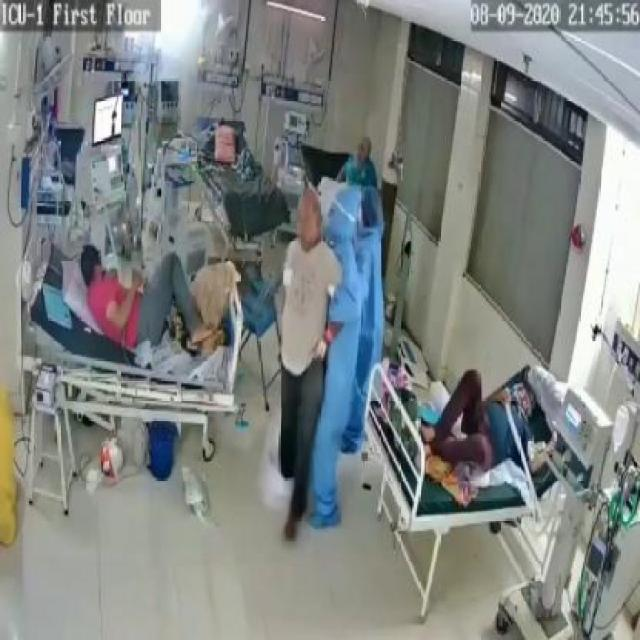smoke: (164, 3, 198, 123)
